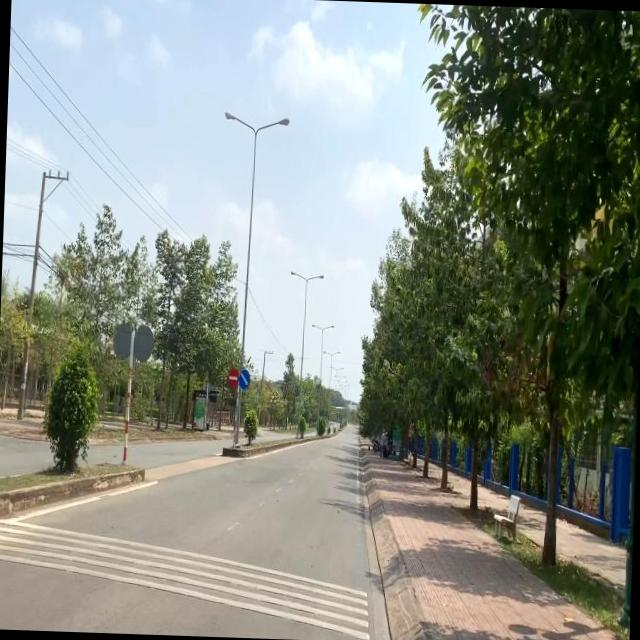P-102: (227, 366, 238, 392)
R-302a: (238, 368, 250, 388)
